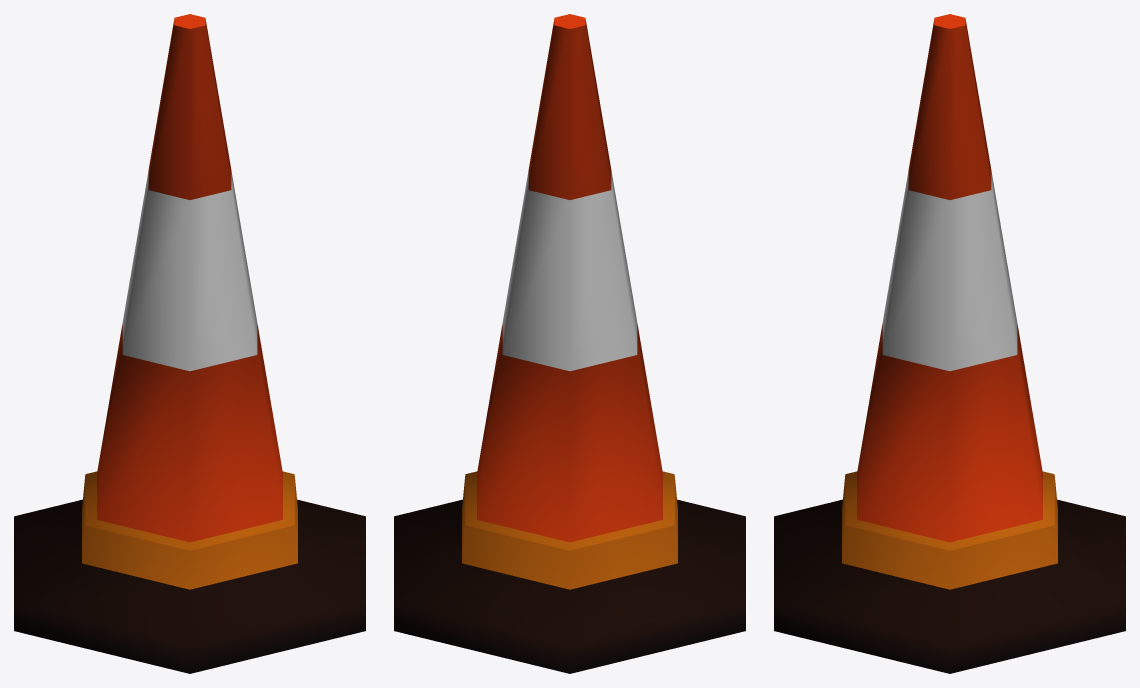
File: TrafficCone_Regular.fbx
The picture shows the model from 3 angles, left to right: view 1: azimuth 30°, elevation 25°; view 2: azimuth 150°, elevation 25°; view 3: azimuth 270°, elevation 25°; orthographic projection.
Visible parts, largest first — view 1: TrafficCone_Regular; view 2: TrafficCone_Regular; view 3: TrafficCone_Regular.
Part boxes in pixels (x1=…): TrafficCone_Regular: x1=14, y1=14, x2=365, y2=673; TrafficCone_Regular: x1=394, y1=14, x2=745, y2=673; TrafficCone_Regular: x1=774, y1=14, x2=1125, y2=673.
Bounding box in the file's own units: 54.78 × 84.31 × 47.44.
